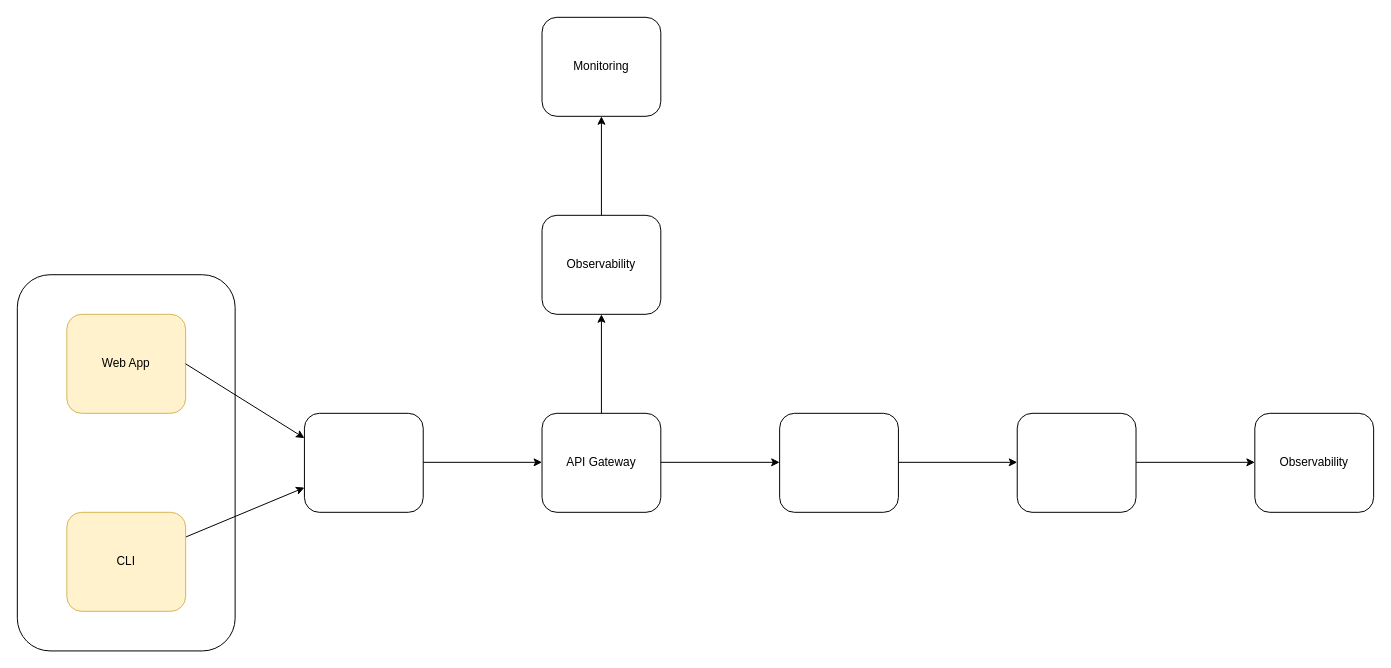
The diagram is 1391 pixels wide and 668 high, and some of its shapes have lost their labels. The box of each missing label's shape, as (x1, y1, x2, y2) in pixels:
Application Service: (779, 412, 898, 512)
CDN/Edge (TLS, WAF, rate limiting, caching): (303, 412, 423, 512)
Infrastructure: (1016, 412, 1136, 512)
